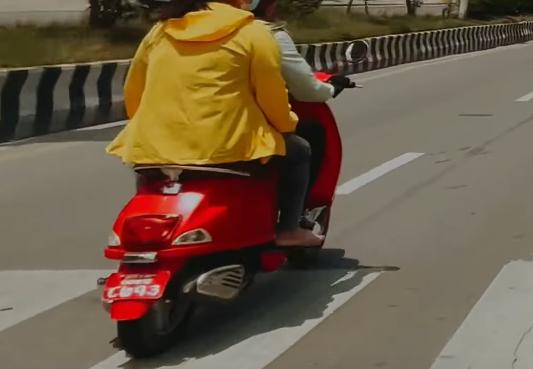scooter: (94, 35, 366, 359)
